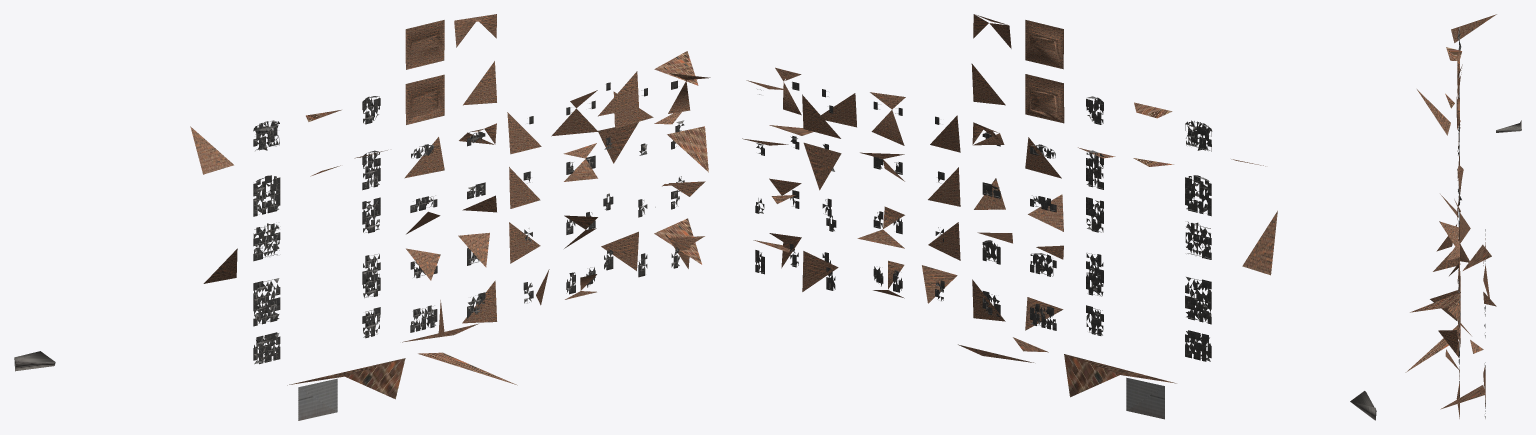
The picture shows the model from 3 angles, left to right: view 1: azimuth 30°, elevation 25°; view 2: azimuth 150°, elevation 25°; view 3: azimuth 270°, elevation 25°; orthographic projection. The views are drawn at different scales.
Parts seen in each view (by area): view 1: cornice02_standard_standard_01.005, cornice02_standard_standard_01.003, cornice02_standard_standard_01.002, cornice02_standard_standard_01.004; view 2: cornice02_standard_standard_01.005, cornice02_standard_standard_01.003, cornice02_standard_standard_01.002, cornice02_standard_standard_01.004; view 3: cornice02_standard_standard_01.005, cornice02_standard_standard_01.002, cornice02_standard_standard_01.001.
Boxes of the visible parts, <box> form: cornice02_standard_standard_01.005: <box>190,14,710,399</box>; cornice02_standard_standard_01.003: <box>253,80,681,364</box>; cornice02_standard_standard_01.002: <box>254,84,684,364</box>; cornice02_standard_standard_01.004: <box>298,378,337,420</box>; cornice02_standard_standard_01.005: <box>742,14,1277,397</box>; cornice02_standard_standard_01.003: <box>755,81,1212,361</box>; cornice02_standard_standard_01.002: <box>756,83,1211,361</box>; cornice02_standard_standard_01.004: <box>1126,377,1164,419</box>; cornice02_standard_standard_01.005: <box>1405,14,1496,418</box>; cornice02_standard_standard_01.002: <box>1457,27,1485,418</box>; cornice02_standard_standard_01.001: <box>1496,120,1521,132</box>.
Bounding box in the file's own units: 50.26 × 26.98 × 9.05.
6 materials, 6 textured.
